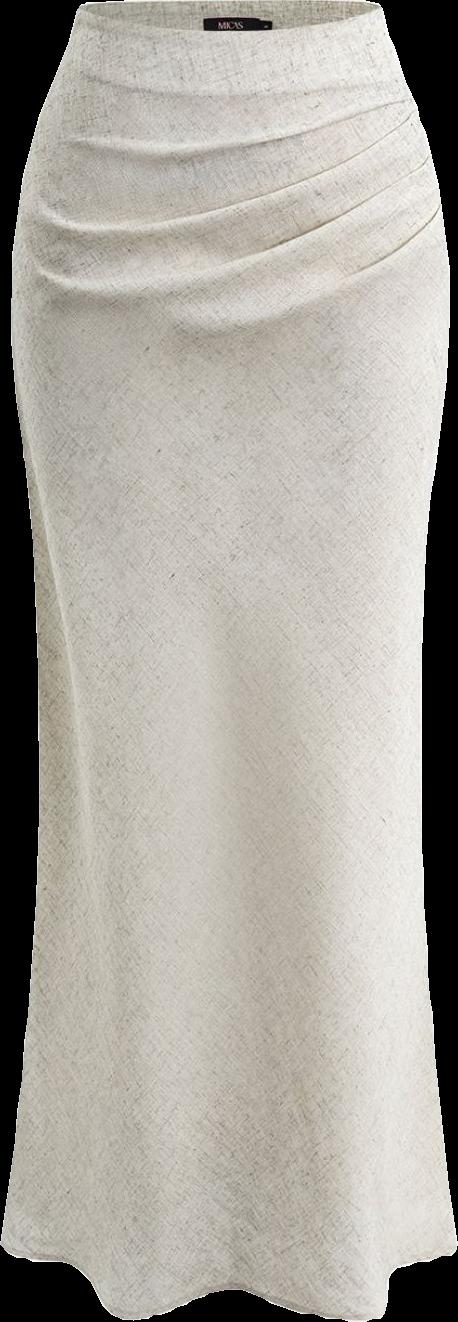Hemline: (0, 1235, 457, 1320)
Waistline: (71, 0, 385, 41)
